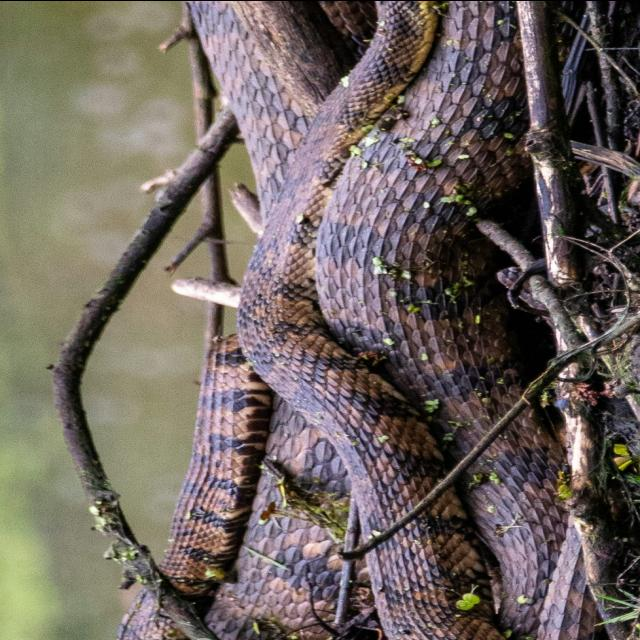Snake: (104, 0, 590, 640)
